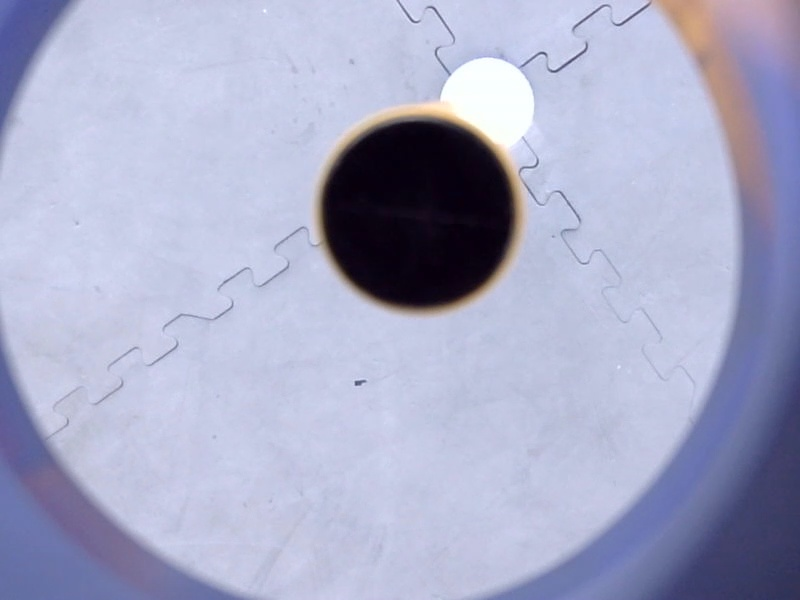tip: (305, 100, 532, 327)
